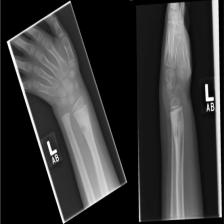greenstick-fracture: (10, 0, 124, 216), (159, 0, 207, 224)
